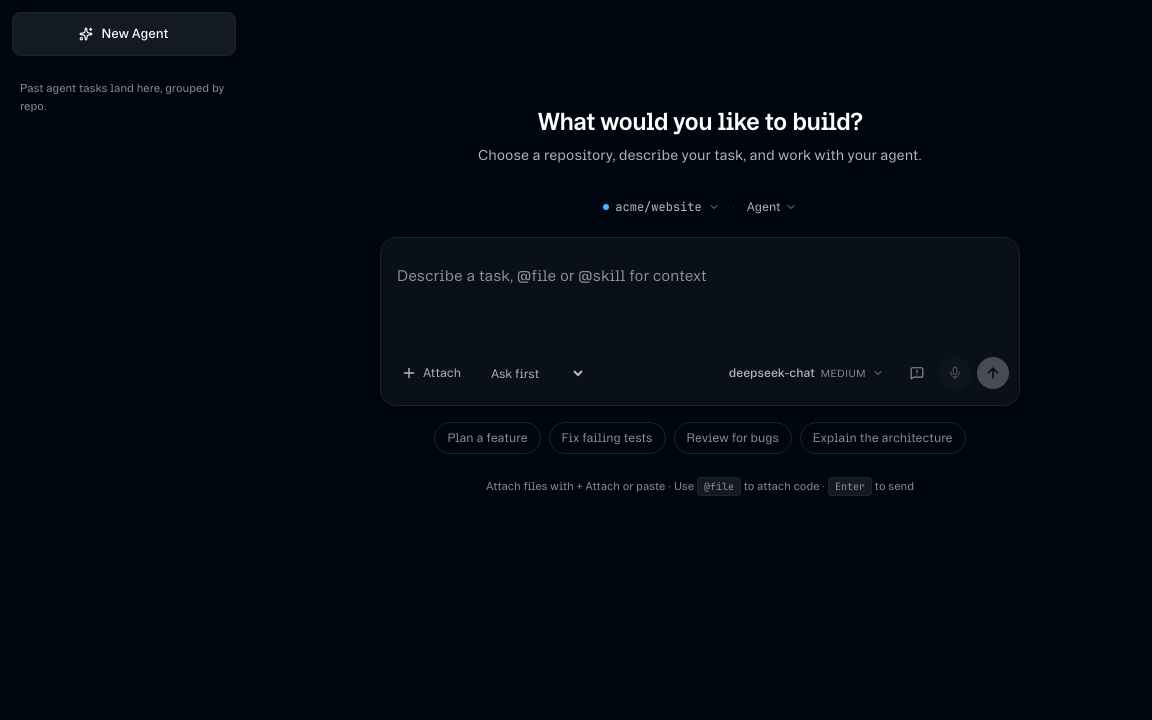
Test case: AgentWorkspace › does not start an environment audit when the confirmation is cancelled
Click the button titled "Environment feedback".
click(917, 373)  # box [901, 357, 933, 389]
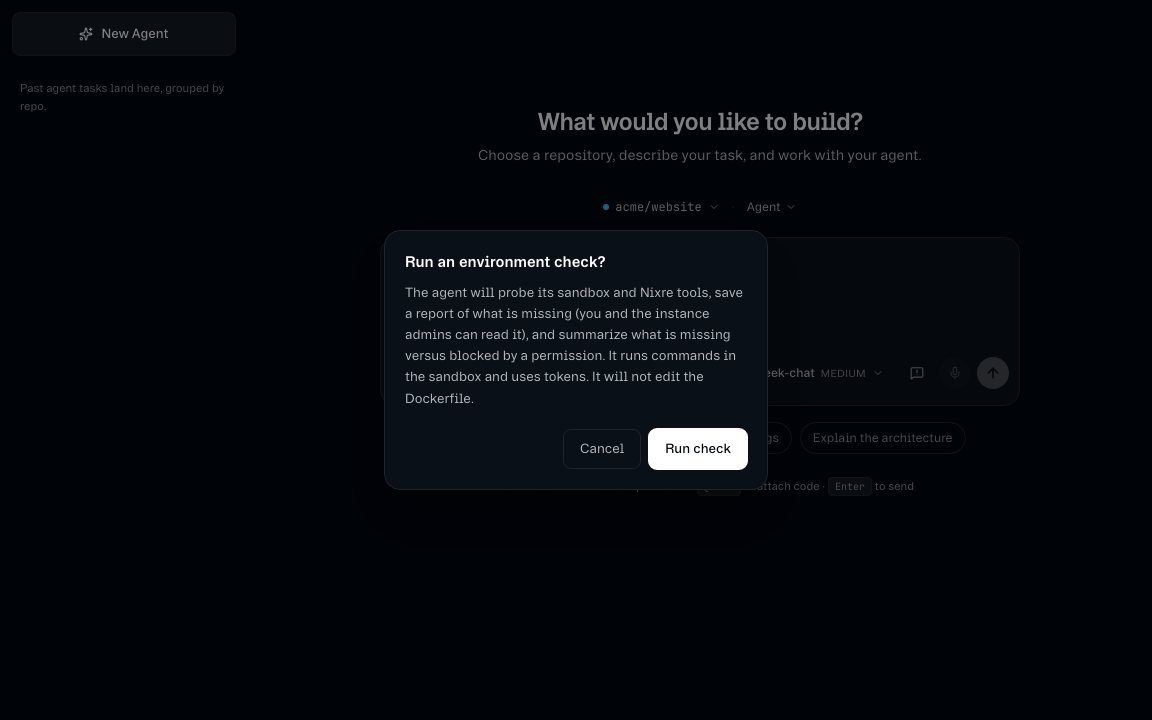
Click the button "Cancel".
click(602, 449)  # box [563, 429, 641, 469]
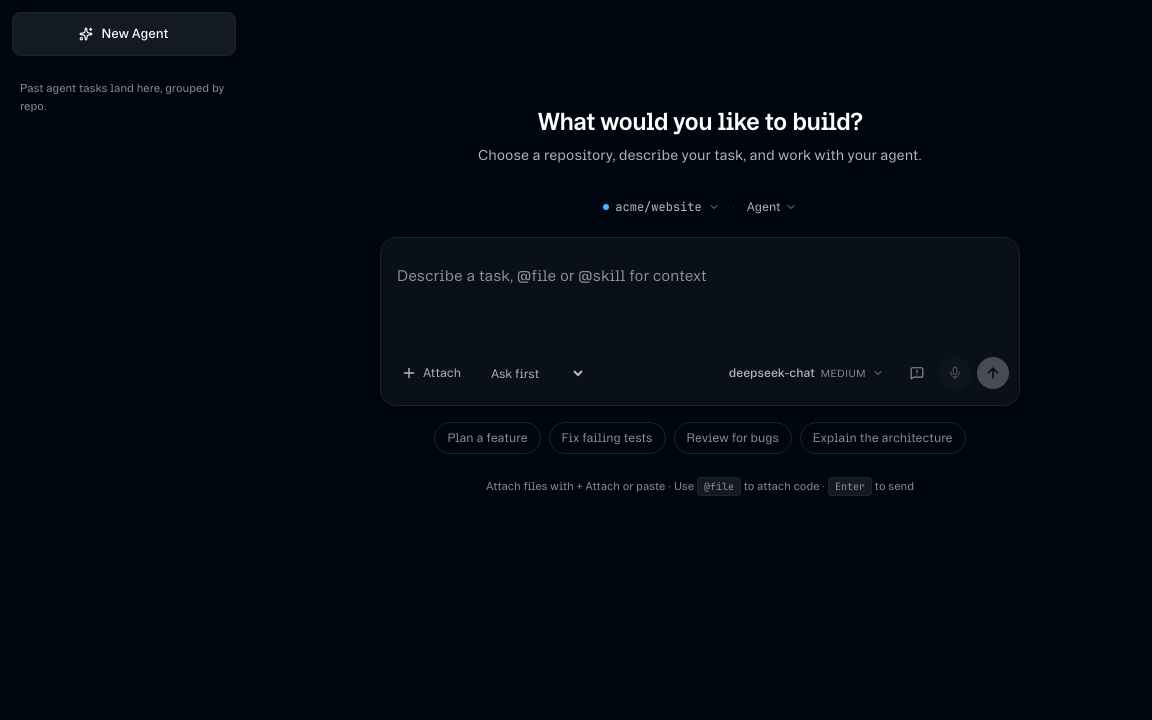
Expected: the dialog is gone
